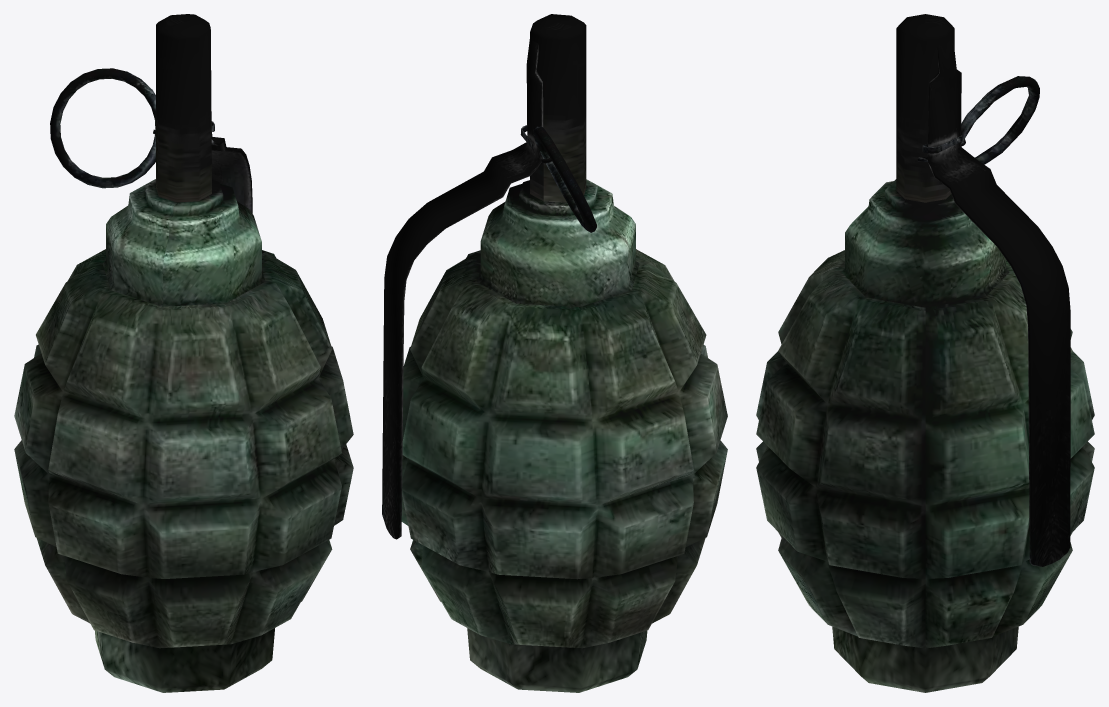
The model's file is grenade.f1.static.glb.
3 renders of one model, left to right at view 1: azimuth 30°, elevation 25°; view 2: azimuth 150°, elevation 25°; view 3: azimuth 270°, elevation 25°, orthographic.
Visible parts, largest first — view 1: grenade.f1.static; view 2: grenade.f1.static; view 3: grenade.f1.static.
Boxes of the visible parts, x1,y1,x2,y2 form: grenade.f1.static: [14, 14, 353, 692]; grenade.f1.static: [382, 14, 727, 692]; grenade.f1.static: [756, 14, 1094, 692].
Size of the model in its own units: 0.0857 by 0.1786 by 0.0857.
Materials: 1 (1 with a texture image).
